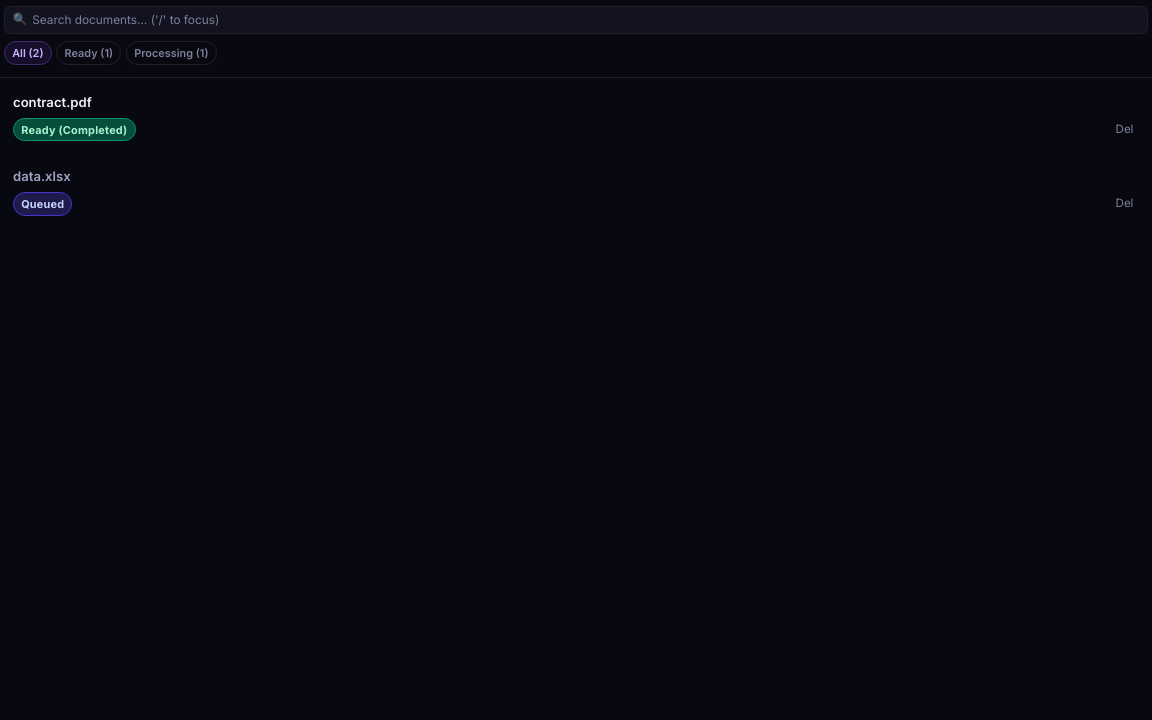
Test case: clicking Delete opens the confirmation dialog
The width and height of the screenshot is (1152, 720).
Click the button with aria-label "Delete contract.pdf": (1124,130) [1110,118,1139,140]
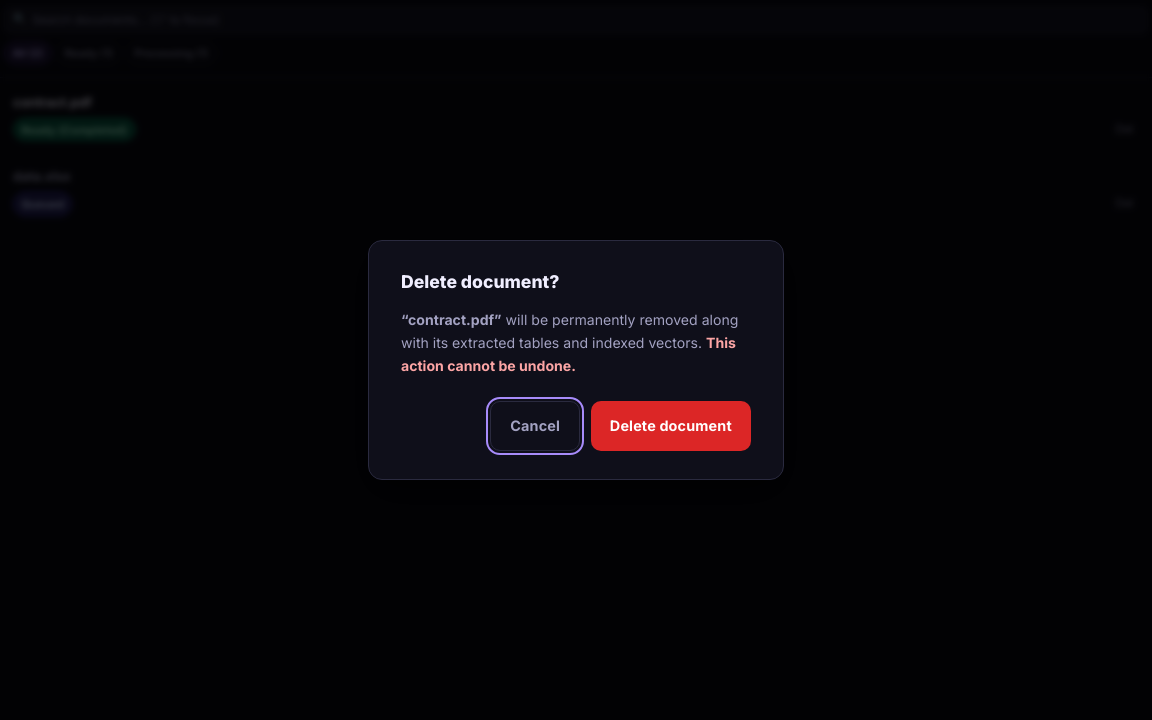
Expected: the dialog is shown, [368,240,784,480]
Expected: the heading "Delete document?" is shown, [401,271,560,292]
Expected: the text "This action cannot be undone." is shown, [401,334,736,374]
